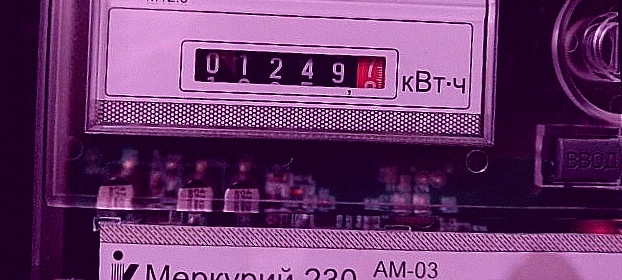0: (203, 48, 221, 75)
1: (235, 50, 250, 77)
2: (265, 55, 283, 81)
4: (298, 54, 315, 80)
7: (362, 53, 378, 79)
9: (327, 58, 345, 85)
screen: (175, 29, 402, 111)
